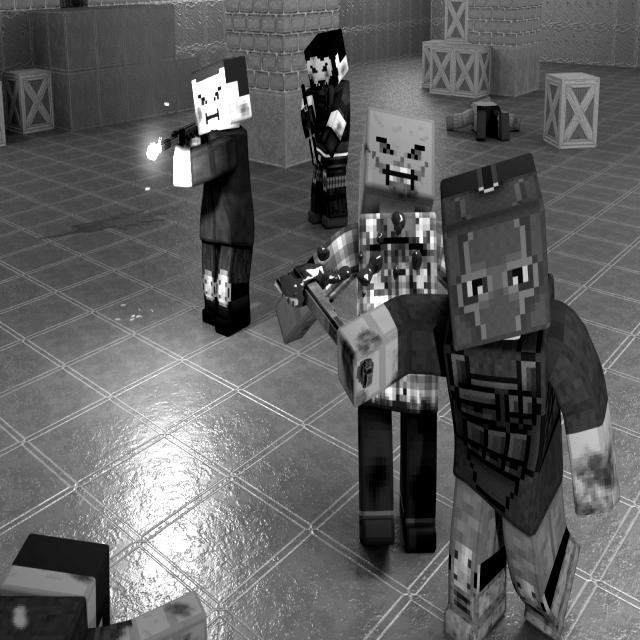Head: (443, 157, 549, 347), (0, 526, 113, 640), (360, 108, 434, 214), (186, 53, 252, 131), (304, 33, 350, 88)
Player: (337, 154, 620, 635), (274, 92, 446, 570), (149, 51, 253, 335), (0, 518, 213, 640), (294, 29, 352, 238)
